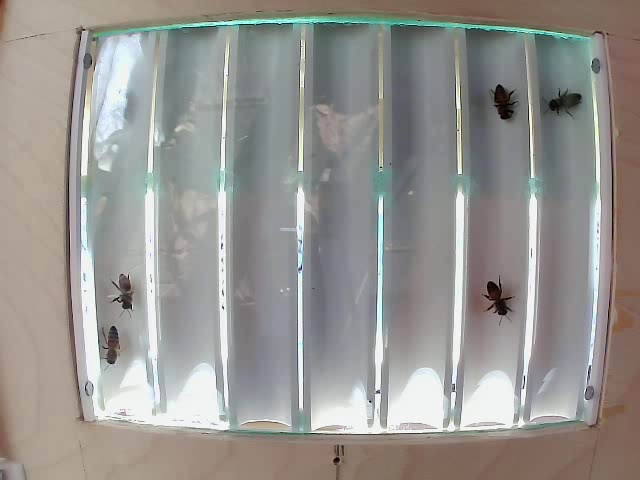bee: (107, 254, 153, 327), (95, 306, 141, 367), (466, 268, 510, 328), (536, 82, 583, 112), (498, 64, 516, 128)
